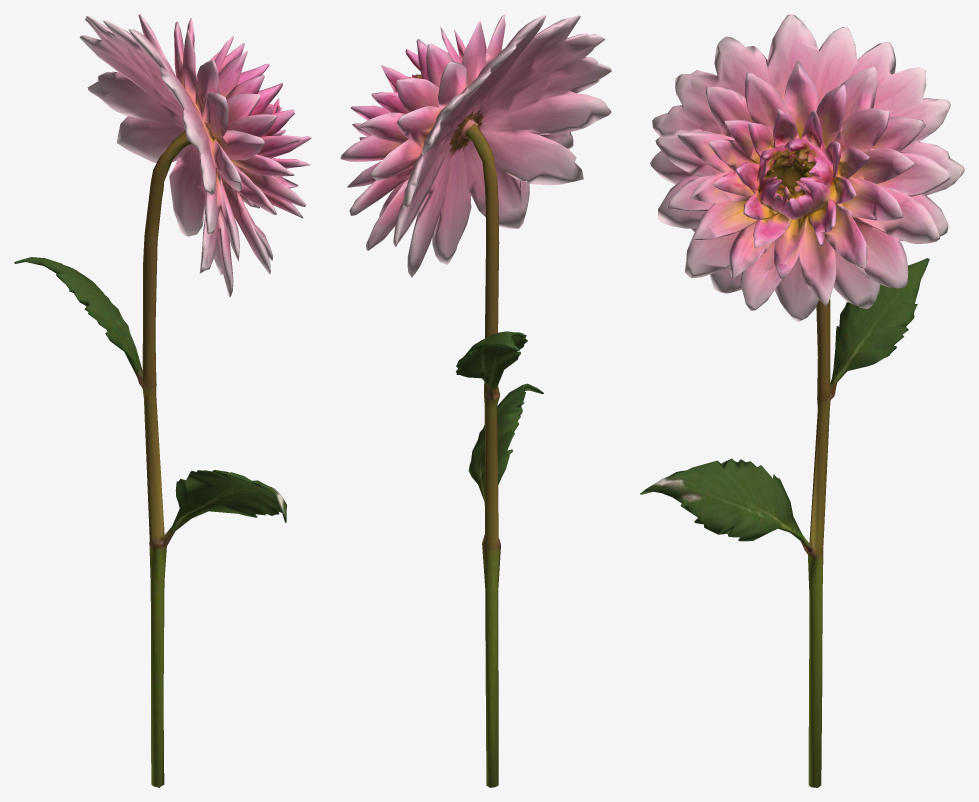
File: pink_dalia.glb
3 views of the same model, side by side, from view 1: azimuth 30°, elevation 25°; view 2: azimuth 150°, elevation 25°; view 3: azimuth 270°, elevation 25° (orthographic). The views are drawn at different scales.
Visible parts, largest first — view 1: tripo_node_b45f6e66-c0a7-4438-8861-7bc80b85dbe6; view 2: tripo_node_b45f6e66-c0a7-4438-8861-7bc80b85dbe6; view 3: tripo_node_b45f6e66-c0a7-4438-8861-7bc80b85dbe6.
Part boxes in pixels (x1,y1,x2,y2): tripo_node_b45f6e66-c0a7-4438-8861-7bc80b85dbe6: [14, 14, 311, 787]; tripo_node_b45f6e66-c0a7-4438-8861-7bc80b85dbe6: [340, 14, 611, 787]; tripo_node_b45f6e66-c0a7-4438-8861-7bc80b85dbe6: [640, 14, 964, 787].
Bounding box in the file's own units: 0.2938 × 0.9997 × 0.3899.
Materials: 1 (1 with a texture image).
